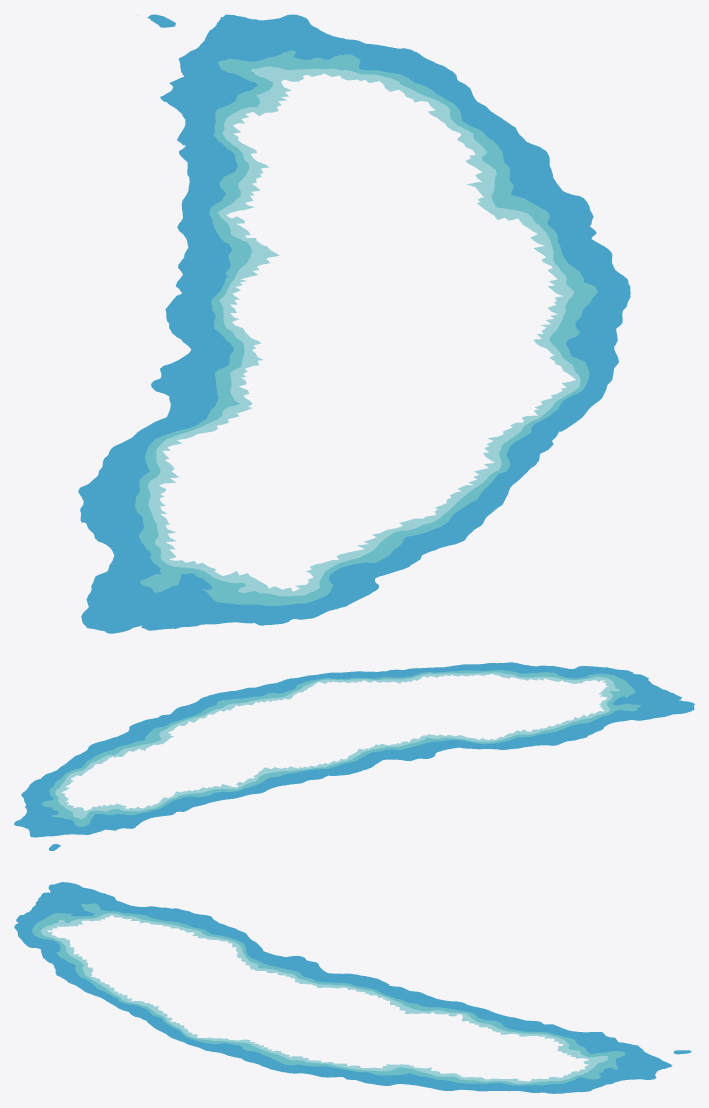
Rendered from Isl-long6-Water.fbx.
3 renders of one model, top to bottom at view 1: azimuth 30°, elevation 25°; view 2: azimuth 150°, elevation 25°; view 3: azimuth 270°, elevation 25°, orthographic. The views are drawn at different scales.
Visible parts, largest first — view 1: Isl-long6-Water; view 2: Isl-long6-Water; view 3: Isl-long6-Water.
Part boxes in pixels (x1,y1,x2,y2): Isl-long6-Water: [78, 14, 630, 633]; Isl-long6-Water: [14, 662, 694, 850]; Isl-long6-Water: [14, 882, 691, 1093].
Size of the model in its own units: 114 by 0 by 155.
